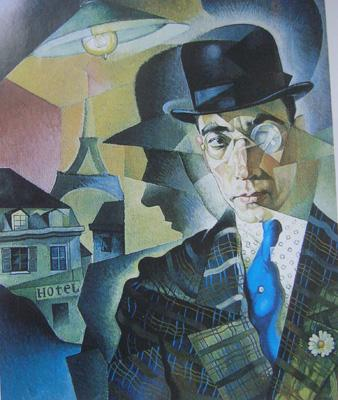person: (106, 18, 338, 399)
